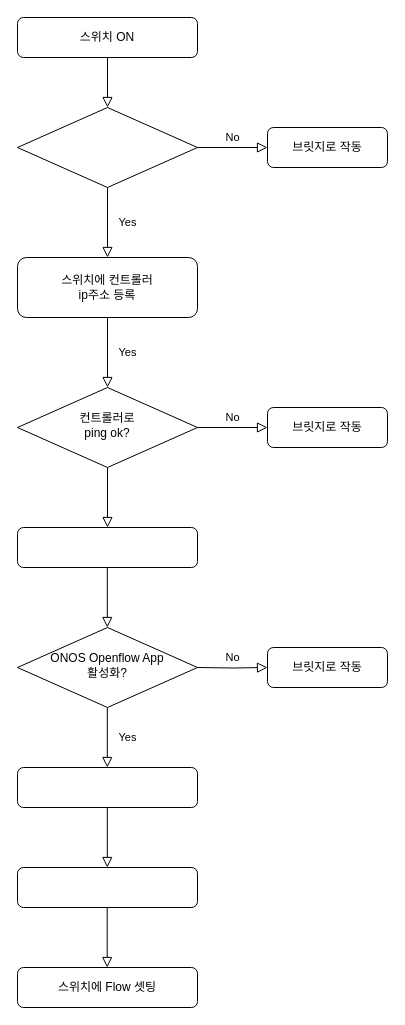
This 405x1025 diagram has some shape labels left out. Each missing label, with the centre of its shape:
of controller 컨피그 입력?: the point at 107,147
OpenFlow 메세지 교환: the point at 107,887
TCP 세션 성립: the point at 107,787
TCP 연결시도: the point at 107,547
